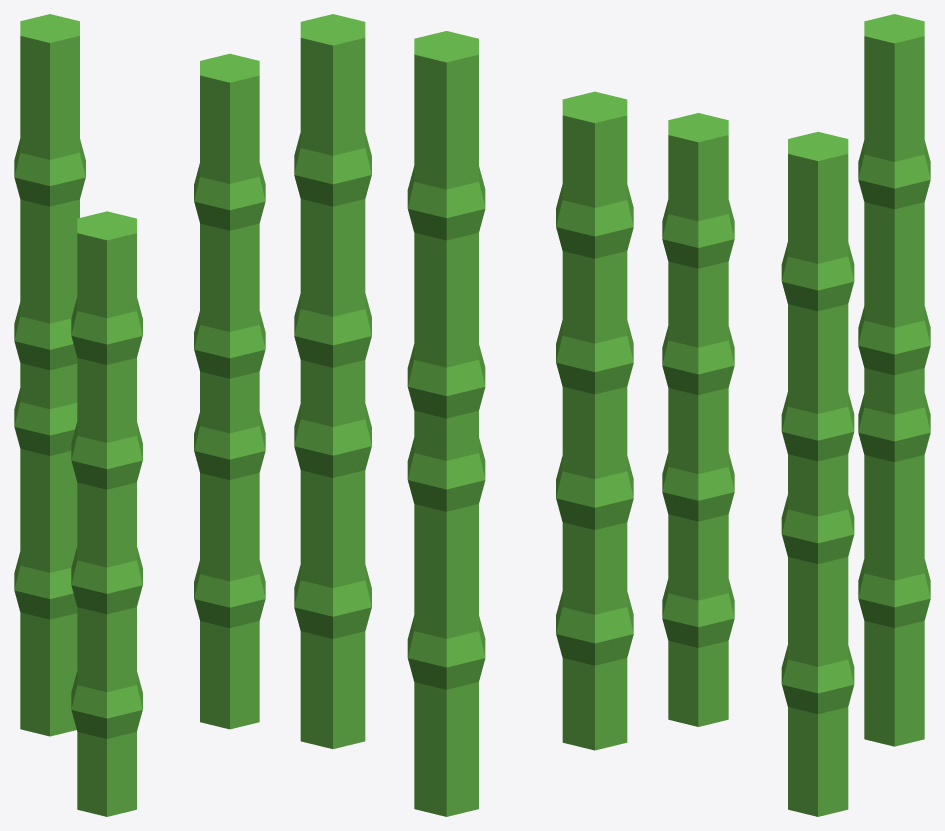
Rendered from crops_bambooStageB.glb.
3 renders of one model, left to right at view 1: azimuth 30°, elevation 25°; view 2: azimuth 150°, elevation 25°; view 3: azimuth 270°, elevation 25°, orthographic. The views are drawn at different scales.
Visible parts, largest first — view 1: crops_bambooStageB; view 2: crops_bambooStageB; view 3: crops_bambooStageB.
Boxes of the visible parts, bbox=[...] form: crops_bambooStageB: bbox=[14, 14, 265, 816]; crops_bambooStageB: bbox=[294, 14, 633, 816]; crops_bambooStageB: bbox=[662, 14, 930, 816].
Size of the model in its own units: 0.3401 by 0.89 by 0.308.
